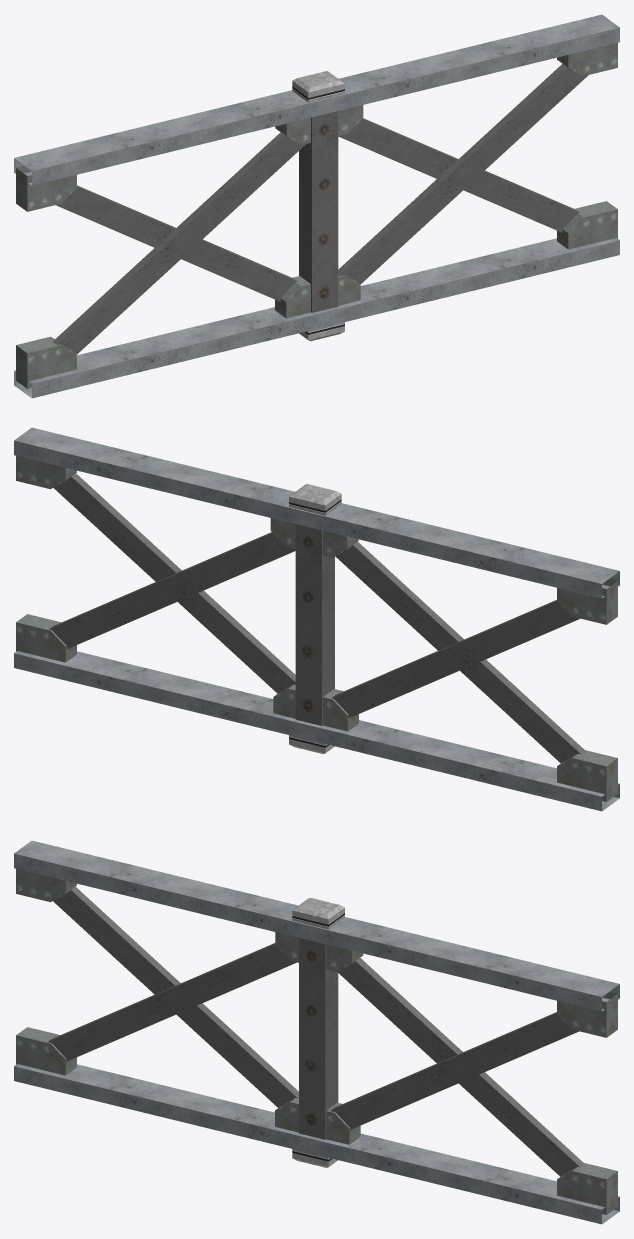
File: Ob_ScafHoriz3_RC.fbx
3 renders of one model, top to bottom at view 1: azimuth 30°, elevation 25°; view 2: azimuth 150°, elevation 25°; view 3: azimuth 330°, elevation 25°, orthographic.
Parts seen in each view (by area): view 1: Ob_ScafHoriz3_RC; view 2: Ob_ScafHoriz3_RC; view 3: Ob_ScafHoriz3_RC.
Part boxes in pixels (x1,y1,x2,y2): Ob_ScafHoriz3_RC: (14,14,619,398); Ob_ScafHoriz3_RC: (14,427,619,811); Ob_ScafHoriz3_RC: (14,840,619,1224).
Size of the model in its own units: 2308 by 948 by 121.
